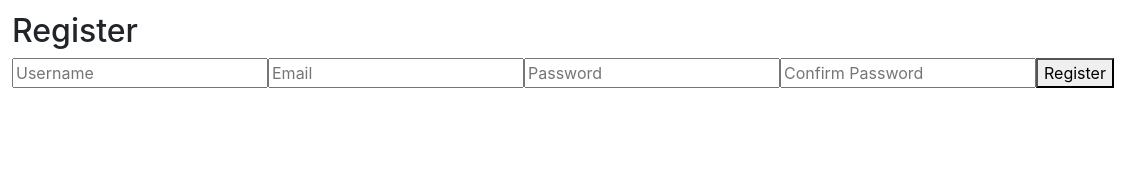
Test: error: shows message when register fails (no data)
This screenshot has width=1131, height=172.
Type "testuser" into the field with placeholder "Username" at [140, 73], box [12,58,268,88]
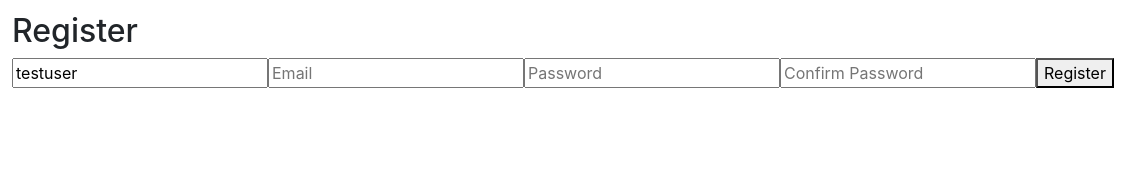
Type "test@example.com" into the field with placeholder "Email" at [396, 73], box [268,58,524,88]
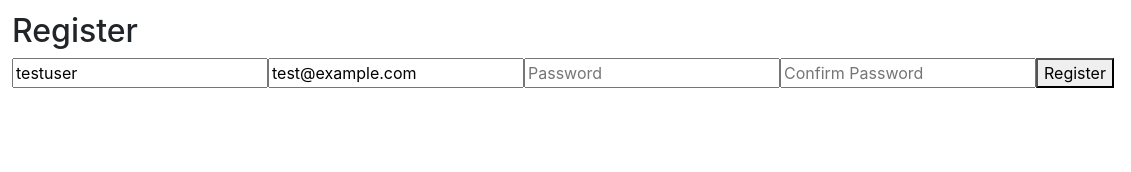
Type "secret" into the password field with placeholder "Password" at [652, 73], box [524,58,780,88]
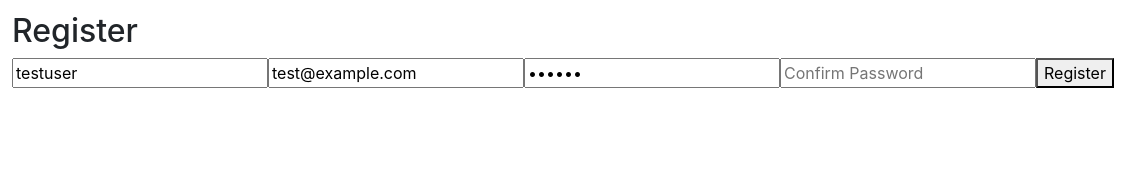
Type "secret" into the password field with placeholder "Confirm Password" at [908, 73], box [780,58,1036,88]
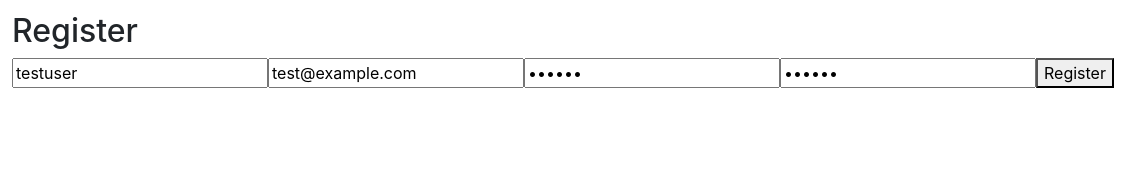
Click the button "Register" at [1075, 73], box [1036,58,1114,88]
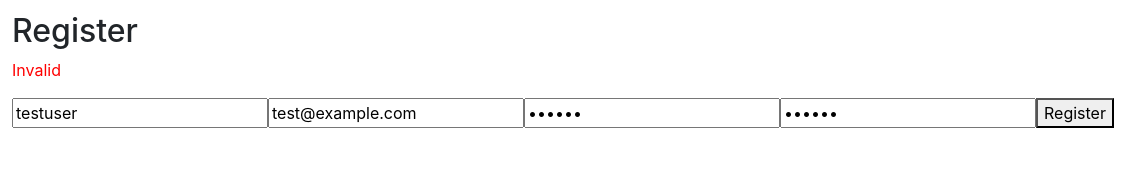
Now the text "Invalid" is shown, box [12,60,61,80]
